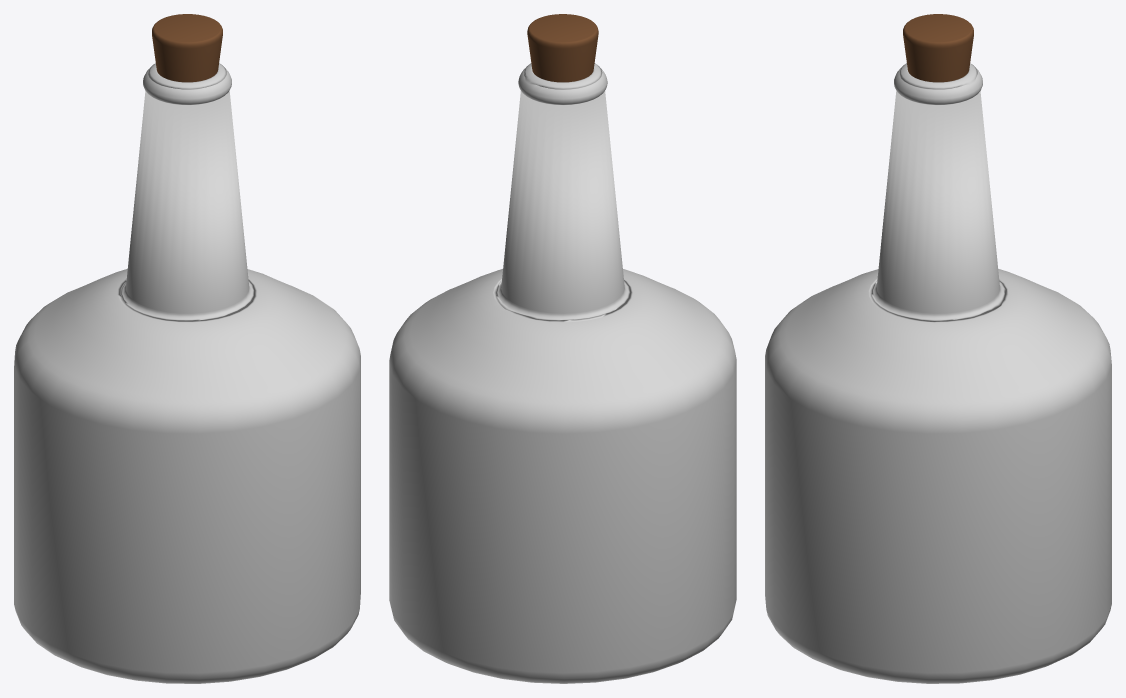
Rendered from Potion_3.fbx.
The picture shows the model from 3 angles, left to right: view 1: azimuth 30°, elevation 25°; view 2: azimuth 150°, elevation 25°; view 3: azimuth 270°, elevation 25°; orthographic projection.
Visible parts, largest first — view 1: Potion_3; view 2: Potion_3; view 3: Potion_3.
Boxes of the visible parts, x1=… form: Potion_3: x1=14, y1=14, x2=360, y2=683; Potion_3: x1=389, y1=14, x2=736, y2=683; Potion_3: x1=765, y1=14, x2=1111, y2=683.
Size of the model in its own units: 52.92 by 99.16 by 52.92.
